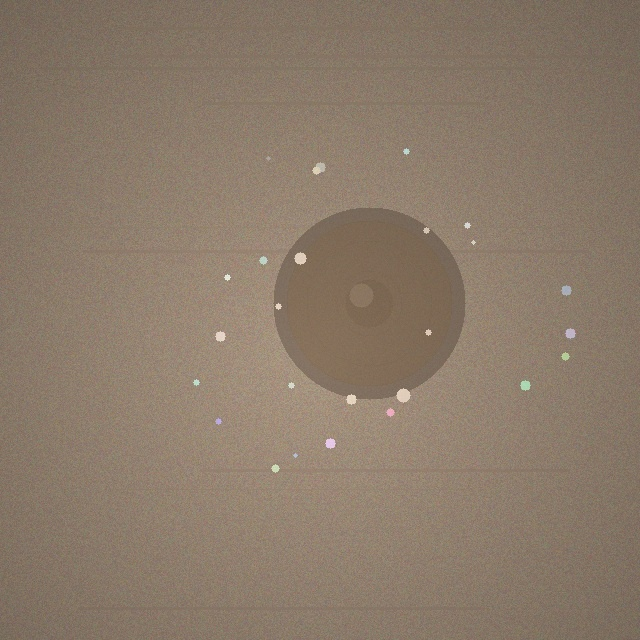overburn: (273, 207, 465, 399)
